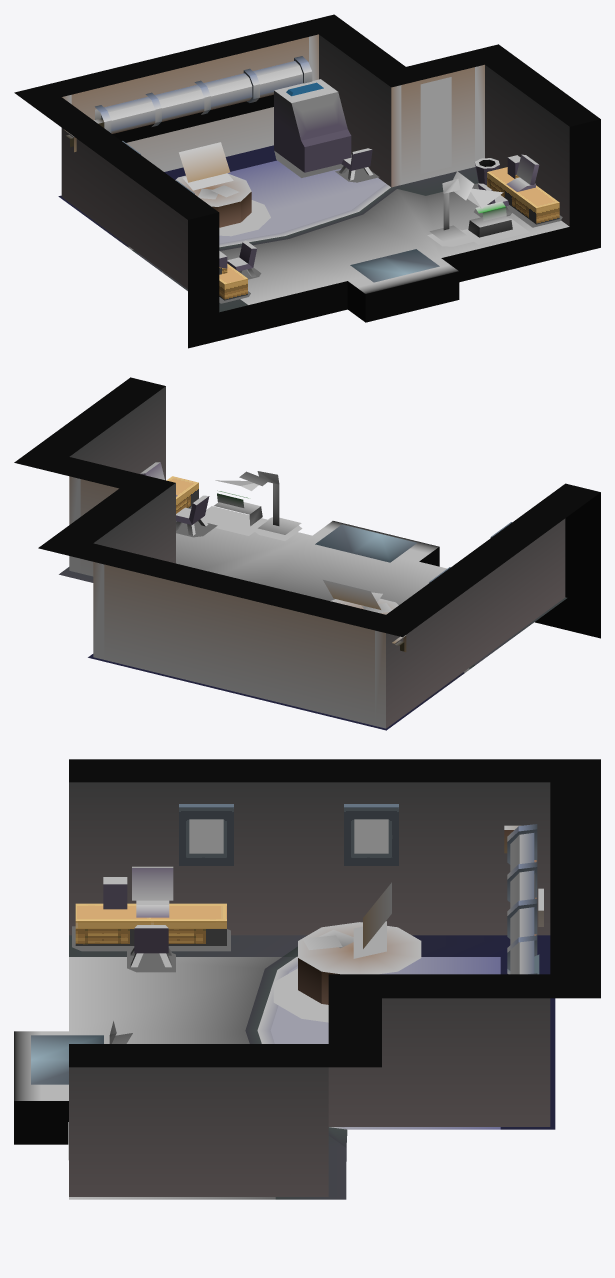
Rendered from season_research_lab.obj.
3 views of the same model, one above another, from view 1: azimuth 30°, elevation 25°; view 2: azimuth 150°, elevation 25°; view 3: azimuth 270°, elevation 25° (orthographic). The views are drawn at different scales.
Size of the model in its own units: 276 by 81.94 by 222.
